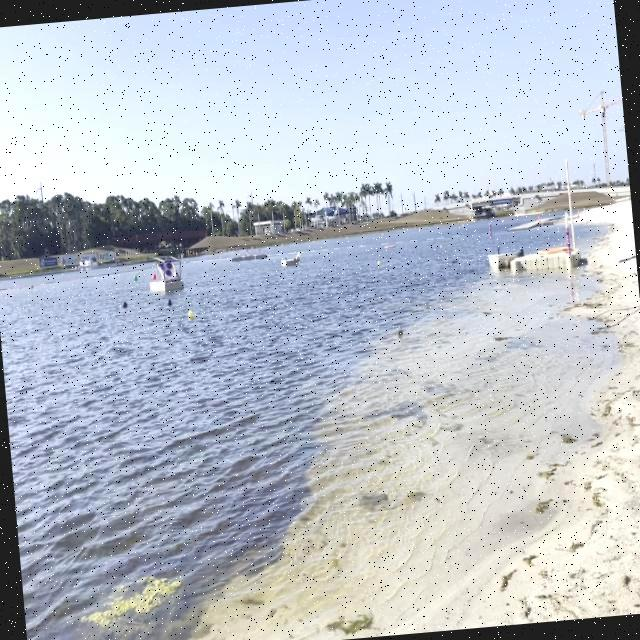buoy: (120, 297, 130, 312), (165, 296, 174, 310), (187, 308, 196, 320), (132, 273, 139, 283), (152, 272, 156, 280)
